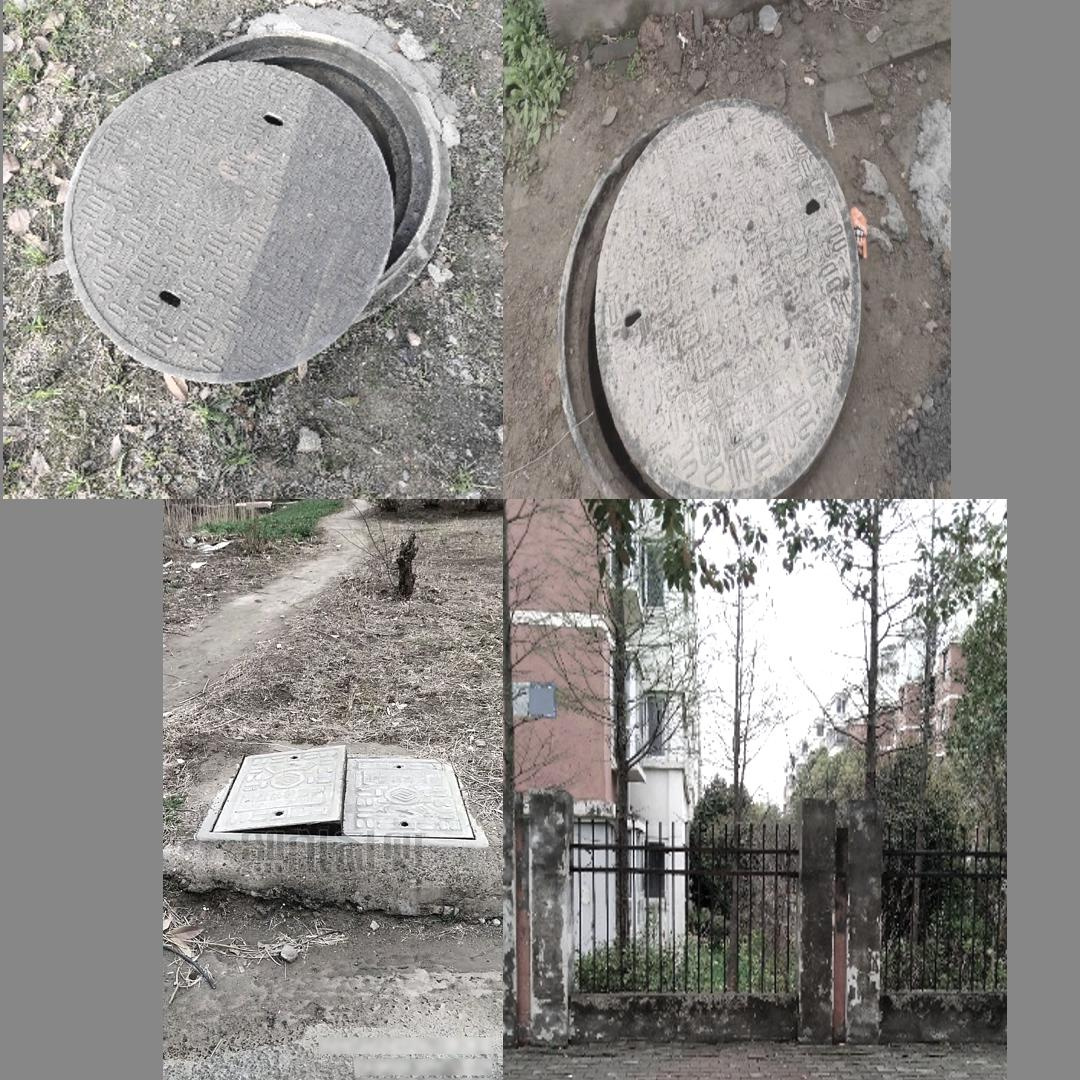uncovered: (64, 31, 452, 386), (524, 87, 863, 487), (193, 745, 490, 846)
